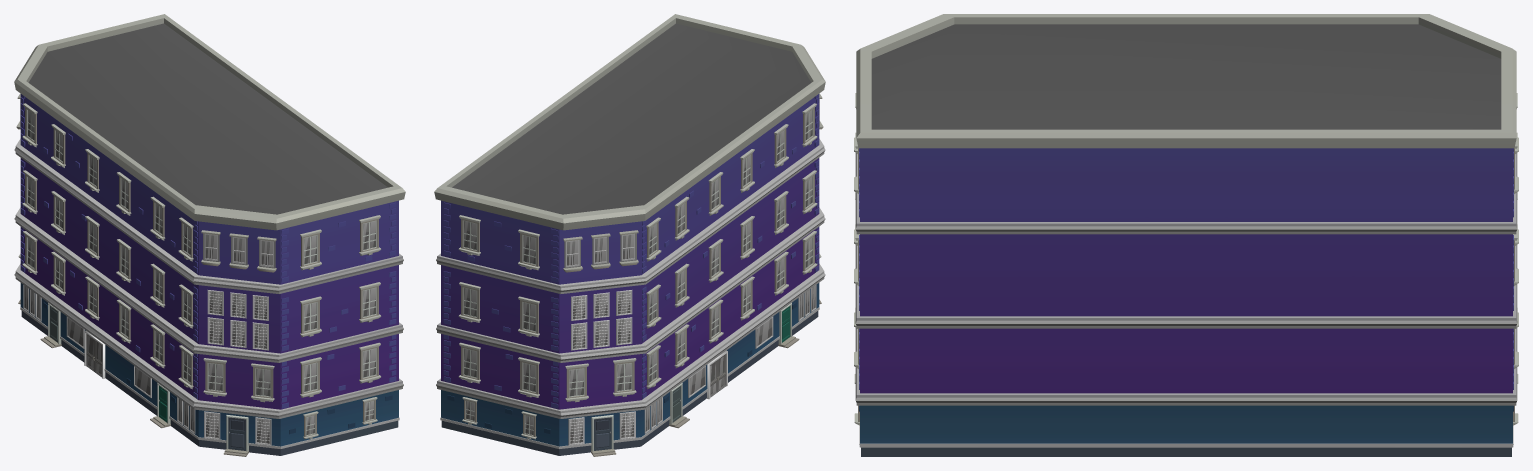
The model's file is Building_25_6_E.fbx.
3 renders of one model, left to right at view 1: azimuth 30°, elevation 25°; view 2: azimuth 150°, elevation 25°; view 3: azimuth 270°, elevation 25°, orthographic. The views are drawn at different scales.
Visible parts, largest first — view 1: Building_25_6_E; view 2: Building_25_6_E; view 3: Building_25_6_E.
Boxes of the visible parts, bbox=[...] form: Building_25_6_E: bbox=[14, 14, 405, 456]; Building_25_6_E: bbox=[434, 14, 825, 456]; Building_25_6_E: bbox=[854, 14, 1518, 456].
Bounding box in the file's own units: 1291 × 1596 × 2941.
